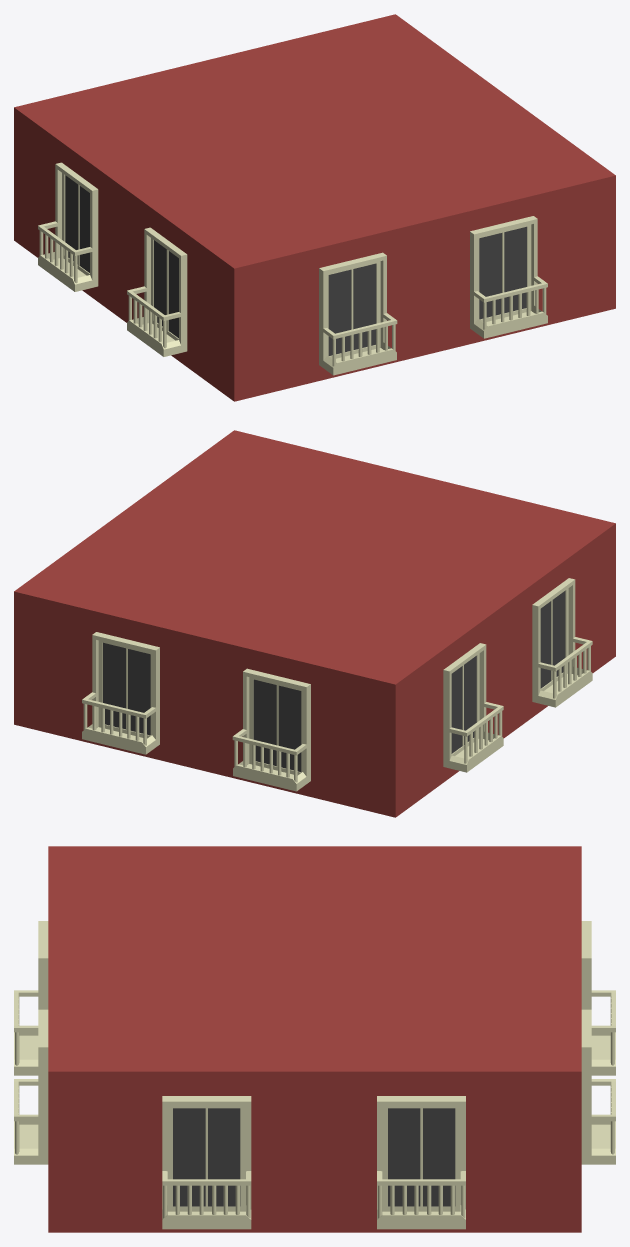
Rendered from Building1 middle.fbx.
The picture shows the model from 3 angles, top to bottom: view 1: azimuth 30°, elevation 25°; view 2: azimuth 150°, elevation 25°; view 3: azimuth 270°, elevation 25°; orthographic projection. The views are drawn at different scales.
Visible parts, largest first — view 1: polySurface35; view 2: polySurface35; view 3: polySurface35.
Boxes of the visible parts, x1,y1,x2,y2 form: polySurface35: (14, 14, 615, 401); polySurface35: (14, 430, 615, 817); polySurface35: (14, 846, 615, 1232).
Size of the model in its own units: 109 by 31.98 by 108.
